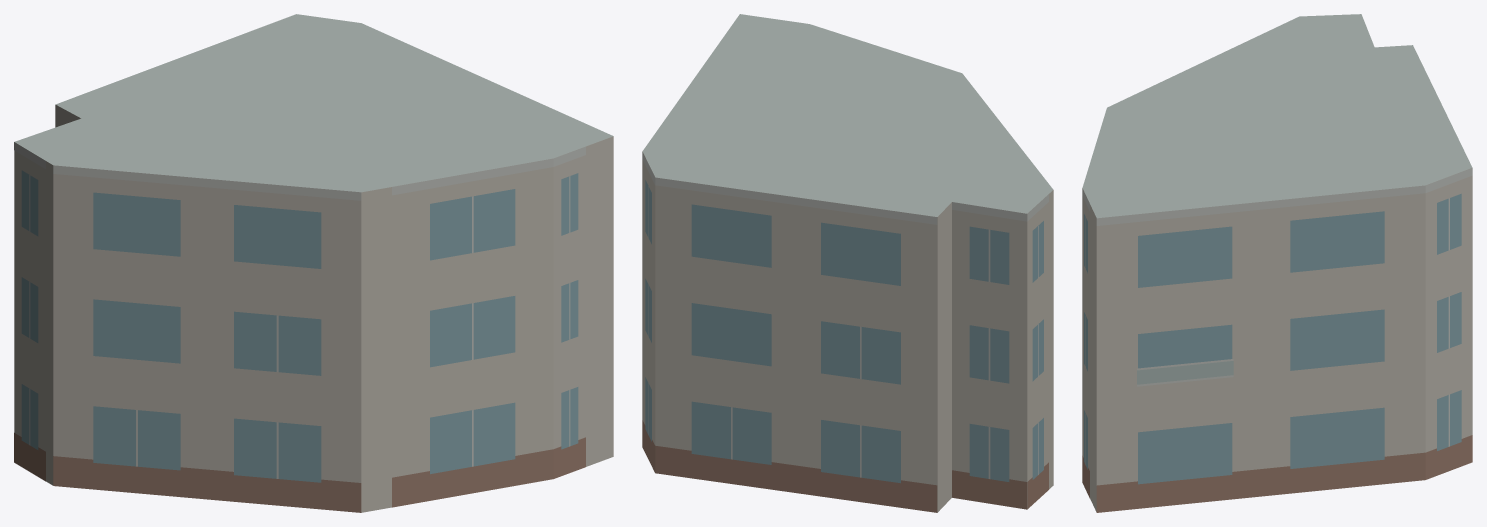
The model's file is survey-upis-33028494.glb.
The picture shows the model from 3 angles, left to right: view 1: azimuth 30°, elevation 25°; view 2: azimuth 150°, elevation 25°; view 3: azimuth 270°, elevation 25°; orthographic projection. The views are drawn at different scales.
Parts seen in each view (by area): view 1: survey-upis-33028494.tmp; view 2: survey-upis-33028494.tmp; view 3: survey-upis-33028494.tmp.
Part boxes in pixels (x1,y1,x2,y2): survey-upis-33028494.tmp: (14,14,613,512); survey-upis-33028494.tmp: (642,14,1053,512); survey-upis-33028494.tmp: (1082,14,1472,512).
Bounding box in the file's own units: 13.62 × 9.15 × 10.99.
